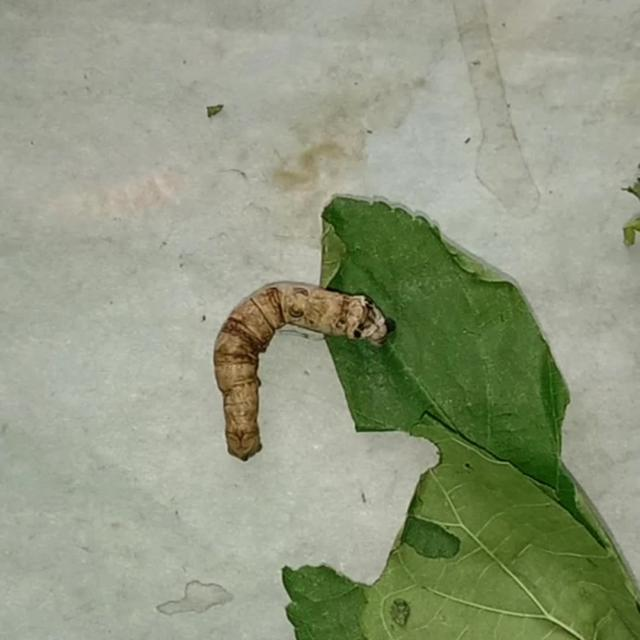Grasserie: (204, 249, 416, 496)
